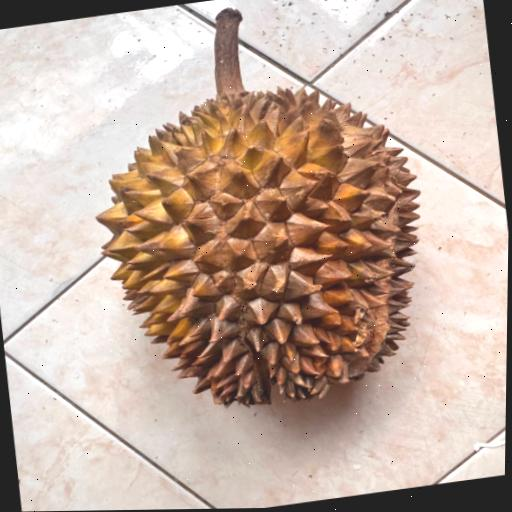rot: (63, 0, 476, 448)
